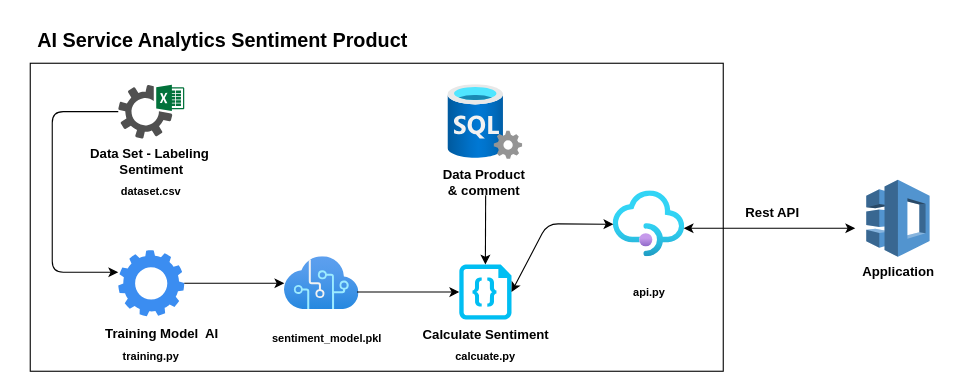
Some shapes in this 953 by 391 pixel diagram are drawn without their labels. The shapes that lost their labels are listed below. From the top down, each one's box as (x1, y1, x2, y2) in pixels, then its label:
(613, 190, 684, 256): API Service
(284, 256, 359, 309): AI Model
